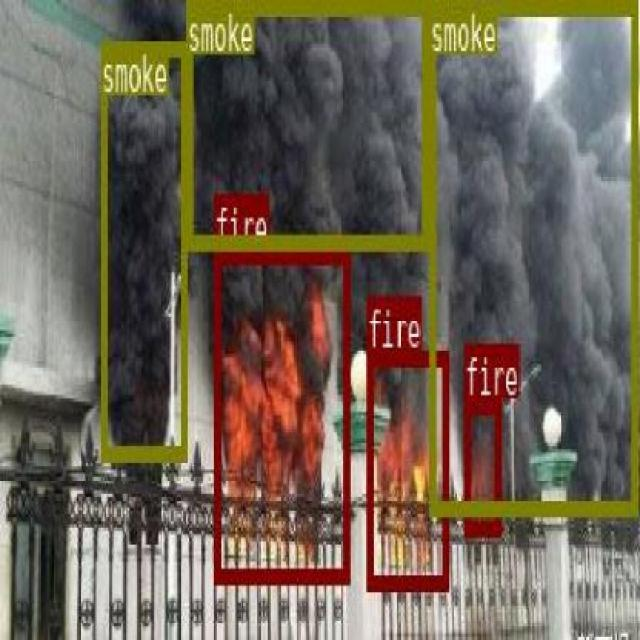Fire: (212, 246, 350, 580), (366, 348, 448, 588), (462, 397, 500, 532)
Smoke: (428, 0, 636, 514), (185, 0, 426, 245), (100, 38, 186, 458)
